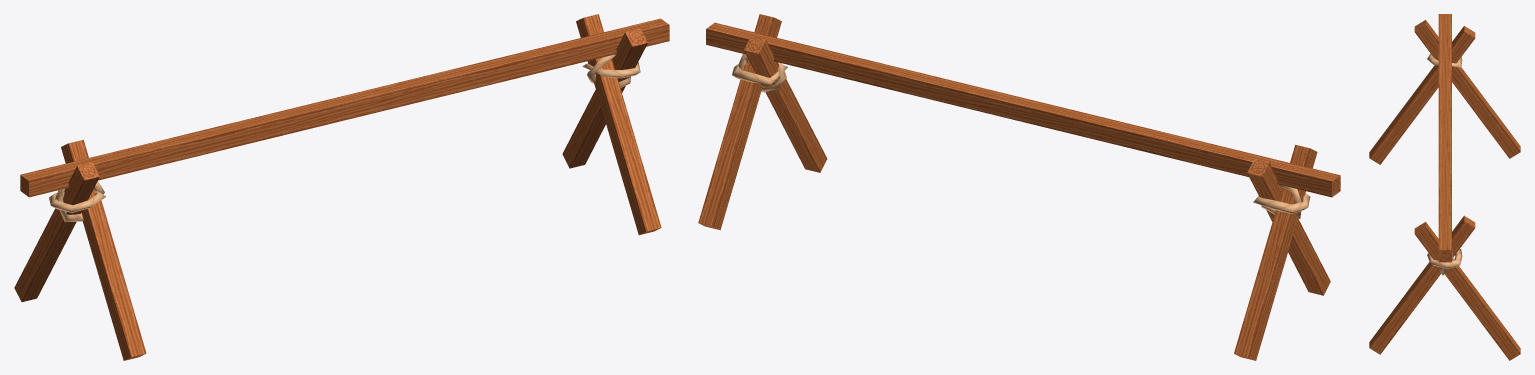
File: RugStand.fbx
3 views of the same model, side by side, from view 1: azimuth 30°, elevation 25°; view 2: azimuth 150°, elevation 25°; view 3: azimuth 270°, elevation 25° (orthographic). The views are drawn at different scales.
Visible parts, largest first — view 1: Cube.023; view 2: Cube.023; view 3: Cube.023.
Boxes of the visible parts, x1,y1,x2,y2 form: Cube.023: [14, 14, 669, 360]; Cube.023: [698, 14, 1340, 360]; Cube.023: [1369, 14, 1520, 360].
Size of the model in its own units: 5.62 by 1.48 by 1.53.
